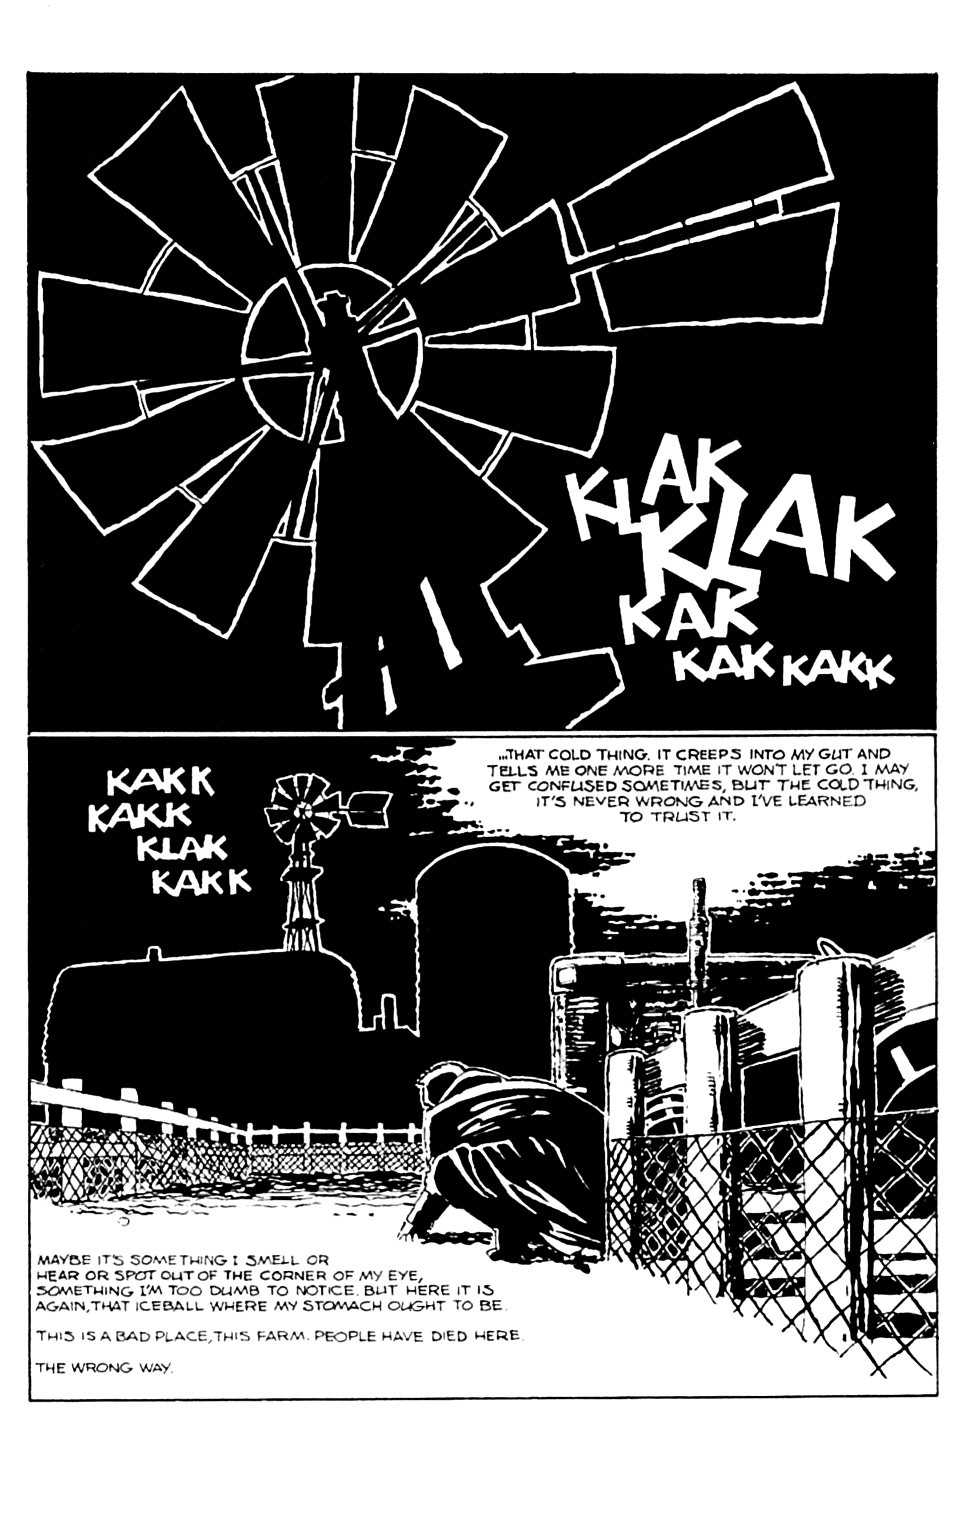Baloon: (29, 1246, 539, 1388), (476, 739, 922, 833)
Vignetta: (29, 737, 939, 1398), (29, 72, 932, 728)
